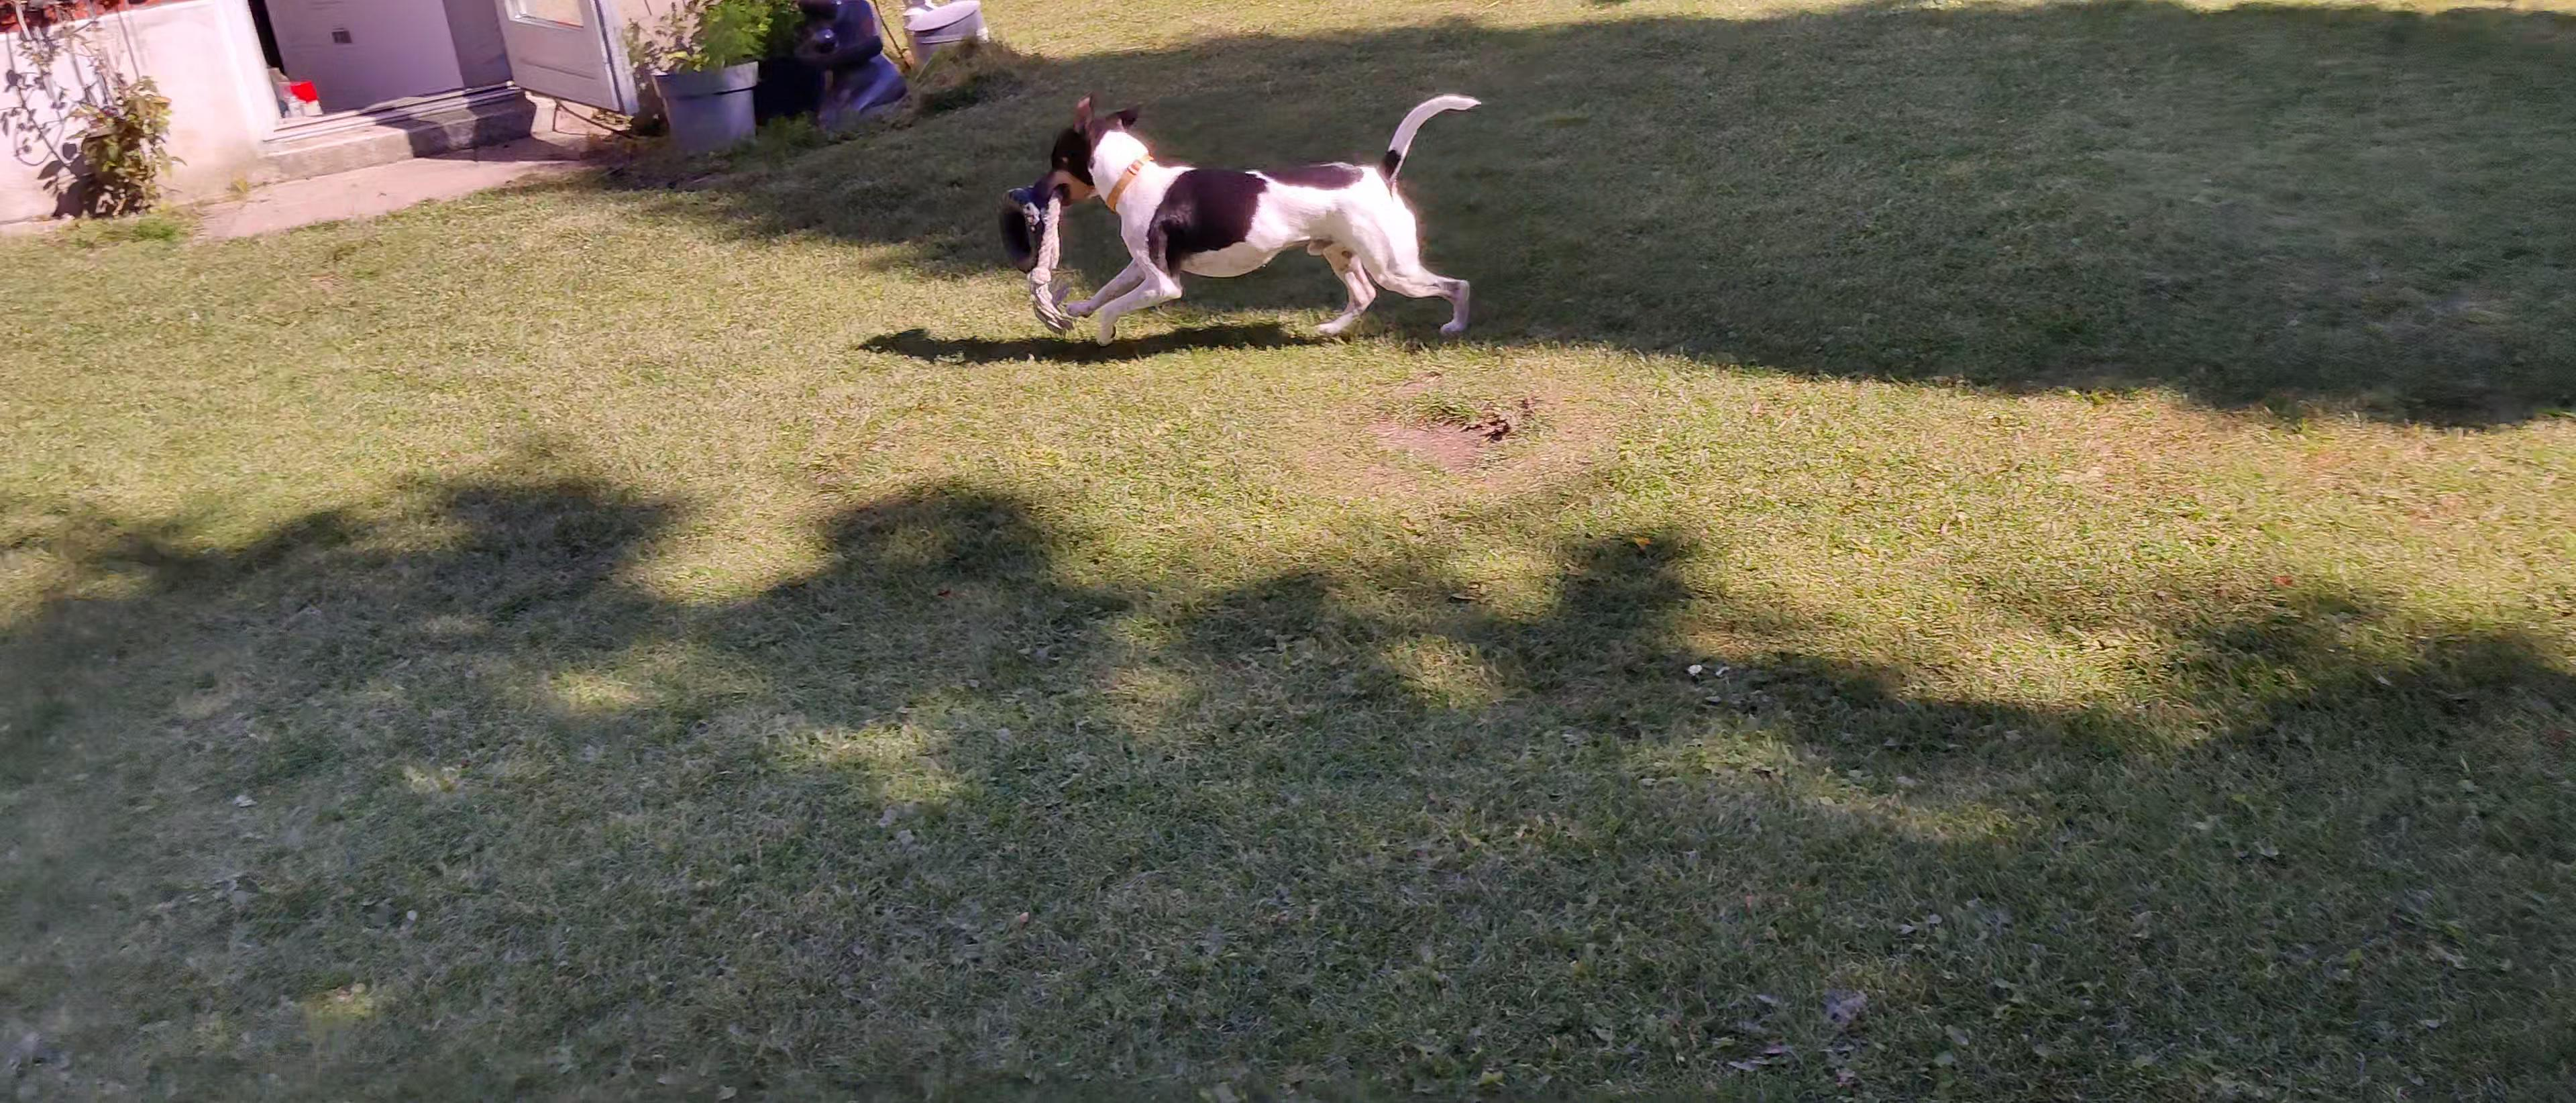Dog: (1014, 54, 1497, 365)
